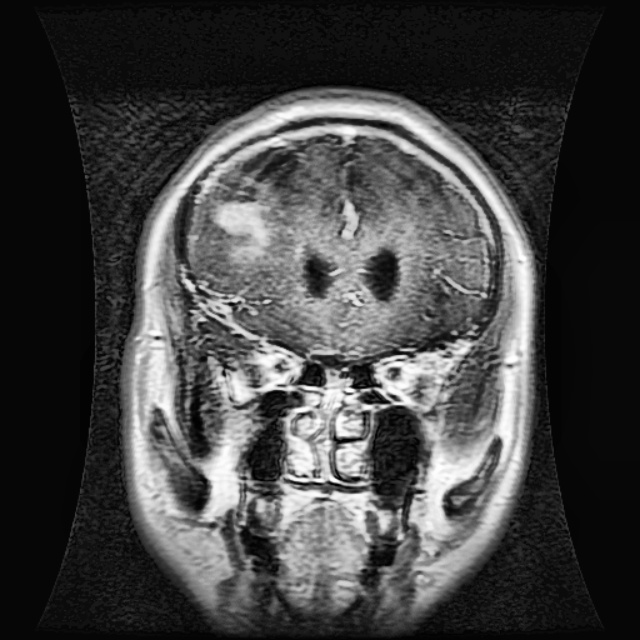Meningioma: (210, 142, 307, 263)
